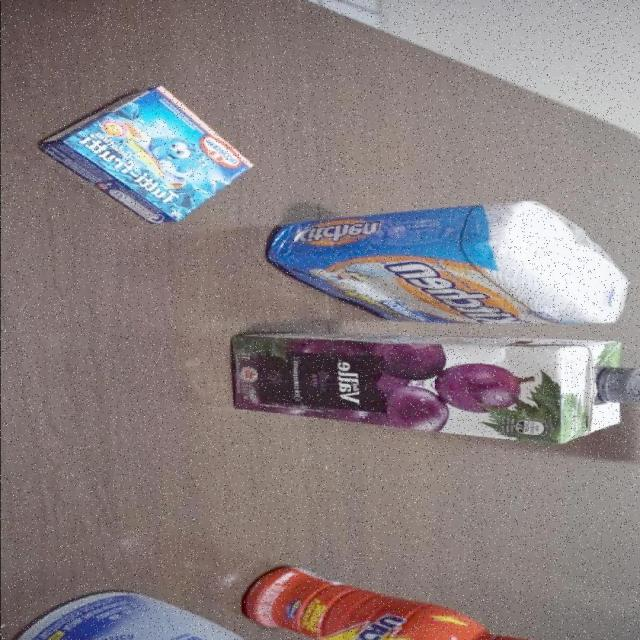AlcoholBottle: (1, 590, 279, 640)
ChocolateMilk: (237, 563, 551, 640)
Gelatine: (35, 83, 256, 226)
Napkin: (263, 200, 631, 324)
